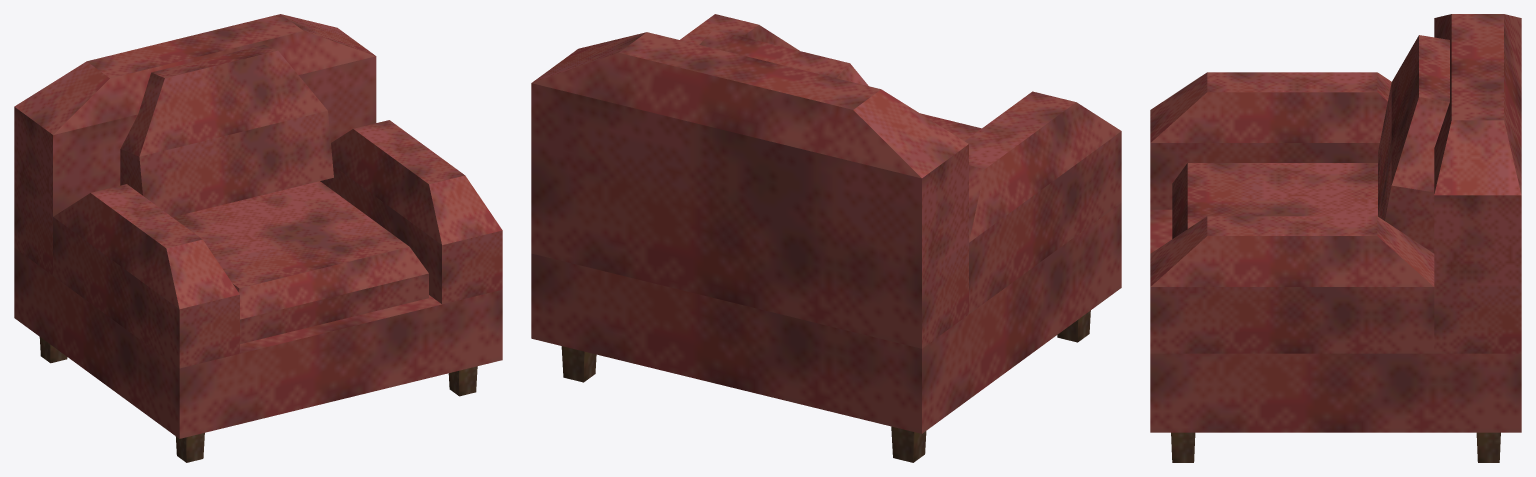
The model's file is armchair_red.fbx.
3 views of the same model, side by side, from view 1: azimuth 30°, elevation 25°; view 2: azimuth 150°, elevation 25°; view 3: azimuth 270°, elevation 25° (orthographic). The views are drawn at different scales.
Visible parts, largest first — view 1: armchair_red; view 2: armchair_red; view 3: armchair_red.
Part boxes in pixels (x1,y1,x2,y2): armchair_red: [14, 14, 502, 462]; armchair_red: [531, 14, 1121, 462]; armchair_red: [1150, 14, 1521, 462].
Size of the model in its own units: 0.96 by 0.8029 by 0.85.
1 material, 1 textured.
